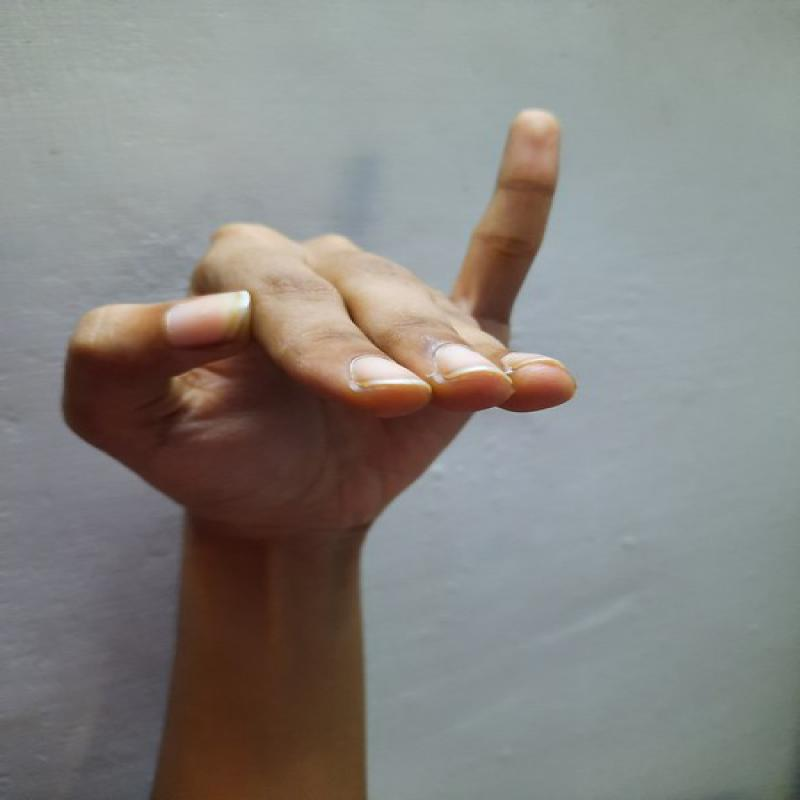Kartharee Mukham: (50, 94, 589, 566)
